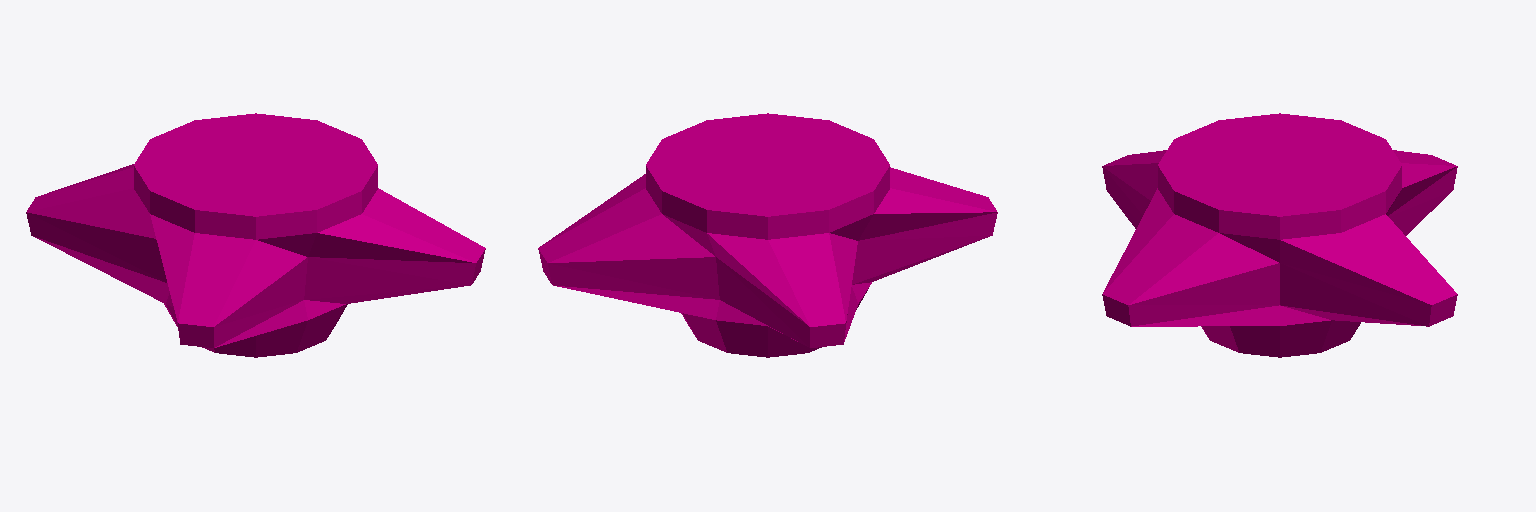
File: 6Ratchet.obj
3 views of the same model, side by side, from view 1: azimuth 30°, elevation 25°; view 2: azimuth 150°, elevation 25°; view 3: azimuth 270°, elevation 25° (orthographic).
Visible parts, largest first — view 1: 6Ratchet; view 2: 6Ratchet; view 3: 6Ratchet.
Part boxes in pixels (left/top/right/bottom): 6Ratchet: left=26, top=113, right=485, bottom=357; 6Ratchet: left=538, top=113, right=997, bottom=357; 6Ratchet: left=1102, top=113, right=1457, bottom=357.
Bounding box in the file's own units: 2.47 × 1.39 × 2.47.